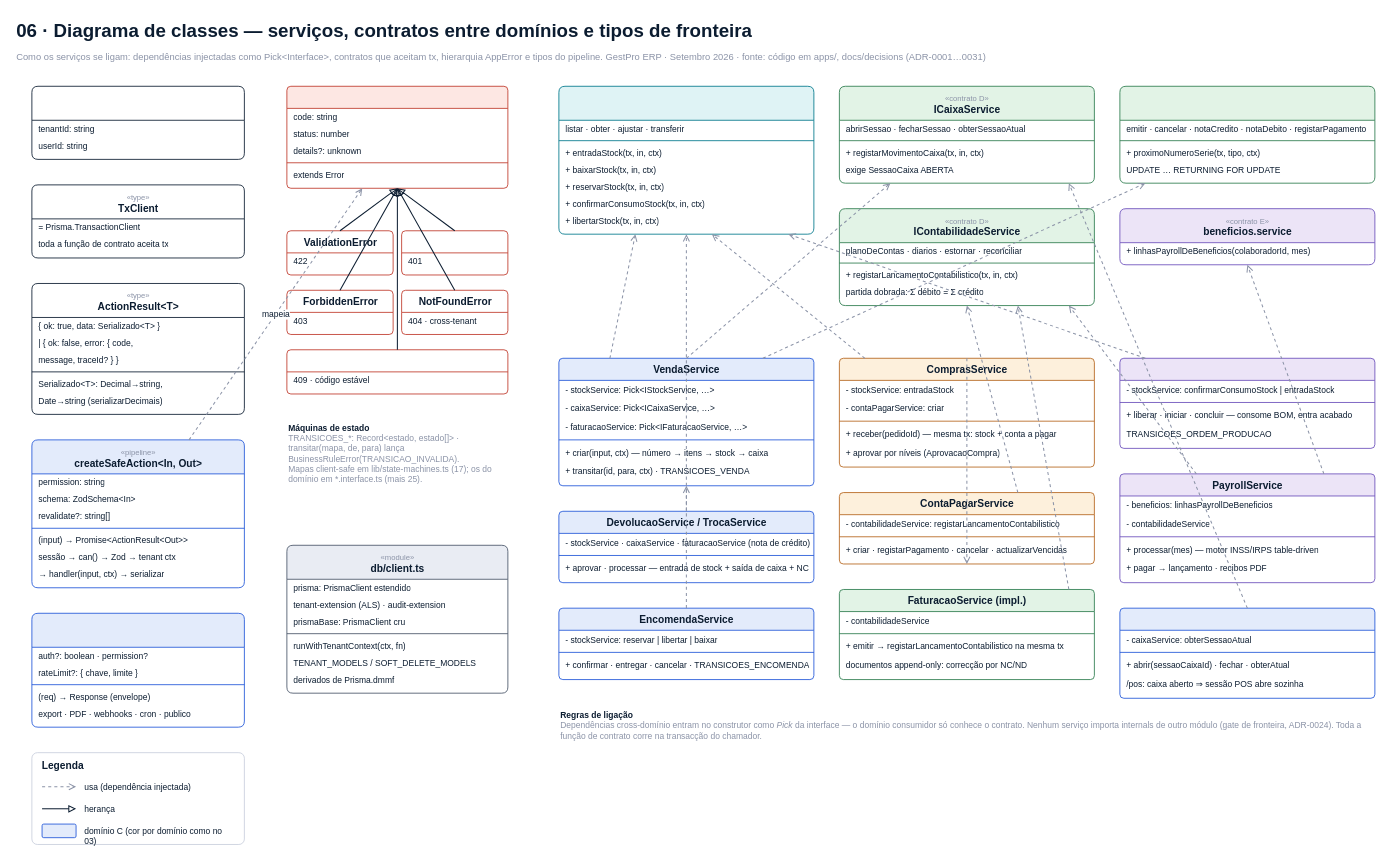
Some shapes in this 1390 by 861 pixel diagram are drawn without their labels. The box of each missing label's shape, as (x1, y1, x2, y2) in pixels:
AppError: (286, 85, 508, 188)
BusinessRuleError: (286, 349, 508, 394)
OrdemProducaoService: (1119, 357, 1375, 448)
SessaoPOSService: (1119, 607, 1375, 698)
UnauthorizedError: (401, 230, 508, 275)
«contrato A» IStockService: (558, 85, 814, 234)
«contrato D» IFaturacaoService: (1119, 85, 1375, 183)
«interface» Ctx: (31, 85, 244, 159)
«pipeline» withApi: (31, 612, 244, 727)
